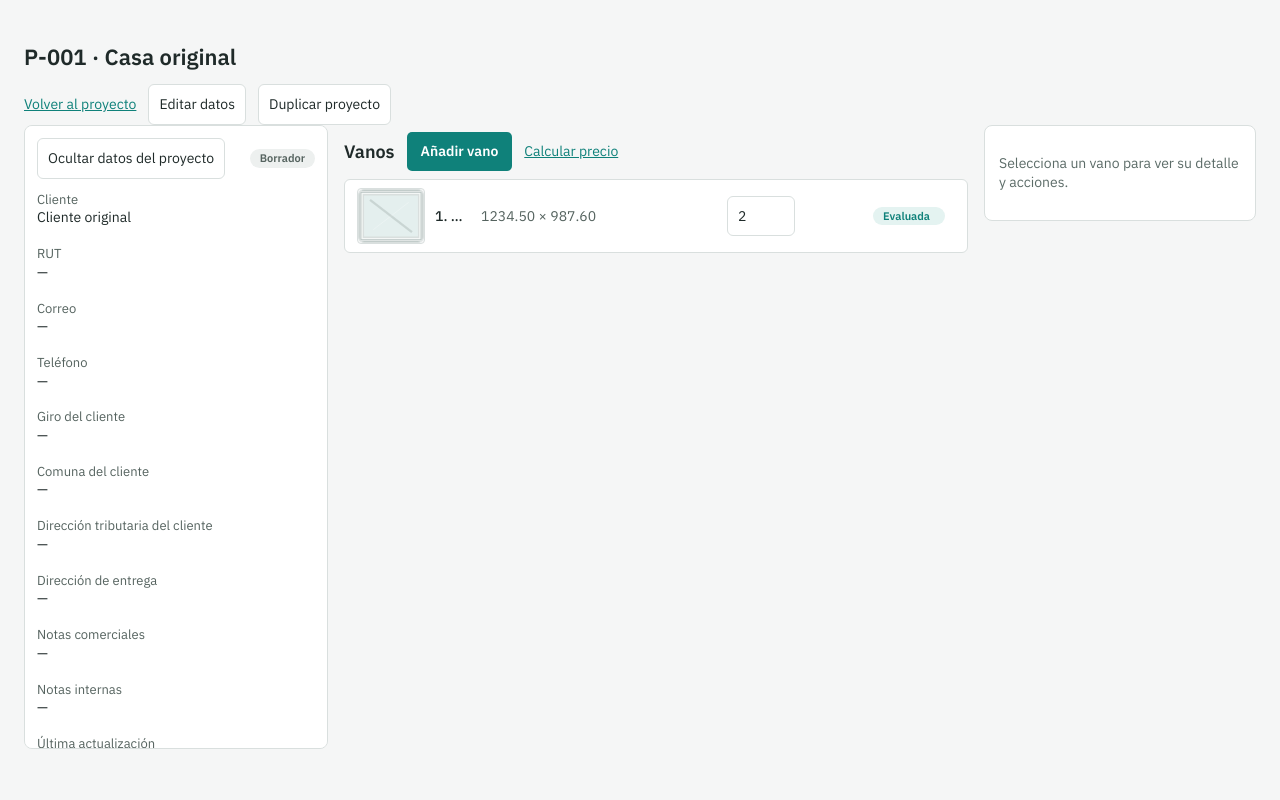
Test: keeps the position row when deletion fails with status 409
Click the text "1. Dormitorio principal". click: x=453, y=216
box: [435,206,471,225]
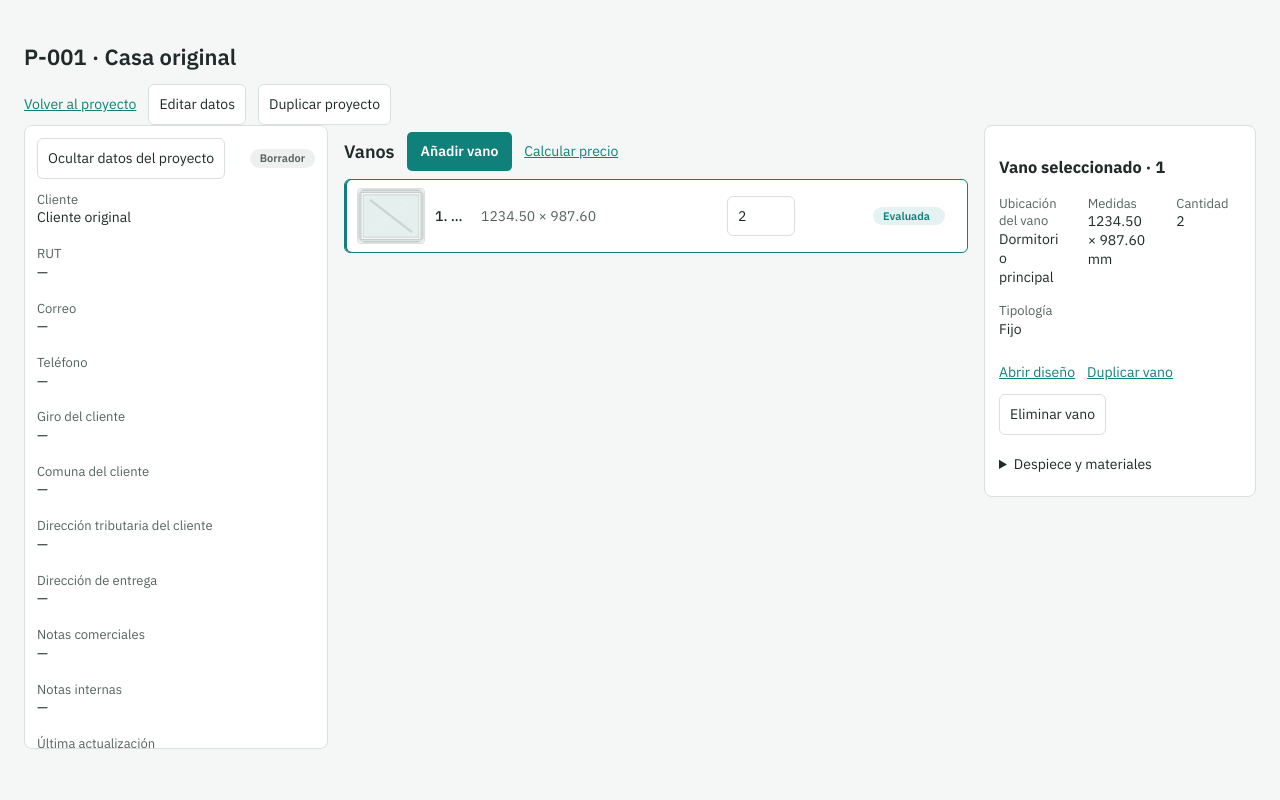
Click the button "Eliminar vano". click: x=1053, y=414
box: [999,394,1106,435]
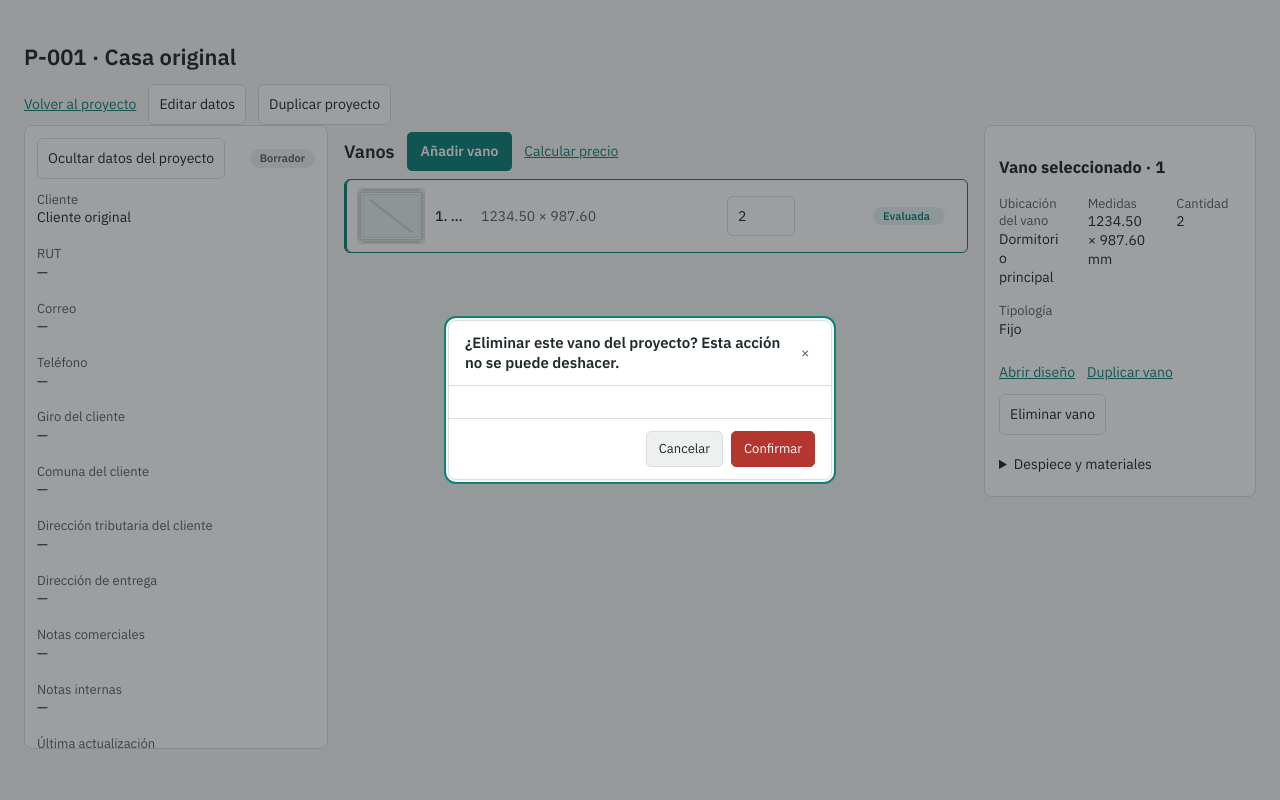
Click the button "Confirmar". click: x=773, y=449
box: [731,432,815,467]
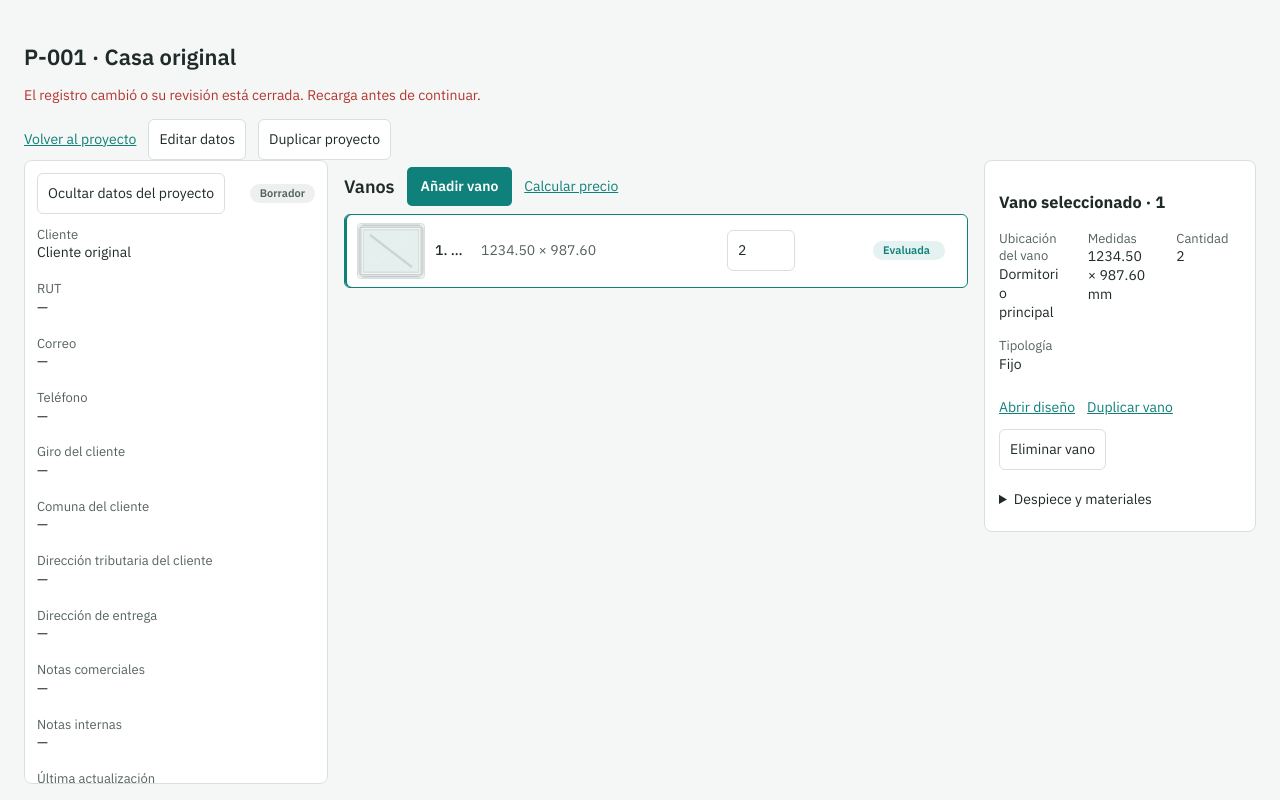
Expected: the button "Eliminar vano" is enabled, [999,429,1106,470]
Expected: the dialog is gone
Expected: the message reads "El registro cambió o su revisión está cerrada. Recarga antes de continuar.", [24,86,481,104]
